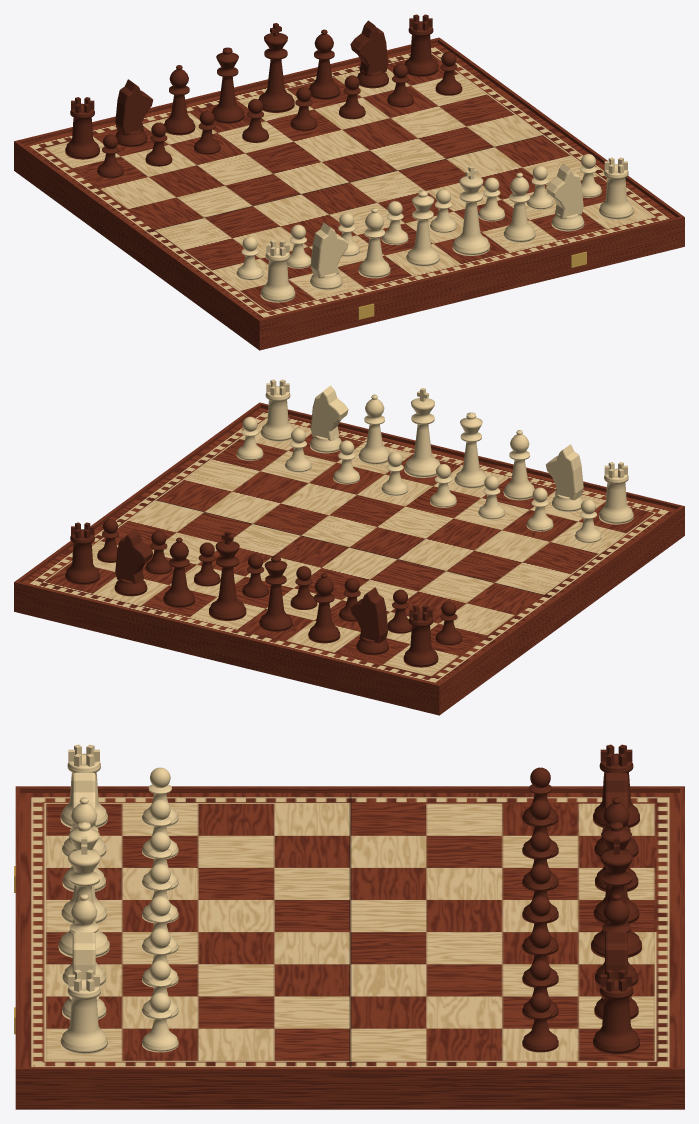
The model's file is philidor-3d-acajou-pliable-44-v2.glb.
The picture shows the model from 3 angles, top to bottom: view 1: azimuth 30°, elevation 25°; view 2: azimuth 150°, elevation 25°; view 3: azimuth 270°, elevation 25°; orthographic projection. The views are drawn at different scales.
Parts seen in each view (by area): view 1: acajou-pliable-44; view 2: acajou-pliable-44; view 3: acajou-pliable-44.
Boxes of the visible parts, box(x1,y1,x2,y2) form: acajou-pliable-44: box(14, 14, 684, 350); acajou-pliable-44: box(14, 379, 684, 715); acajou-pliable-44: box(14, 744, 684, 1109).
Size of what is drawn, in the model's own units: 0.44 by 0.106 by 0.4412.
Materials: 5 (2 with a texture image).
